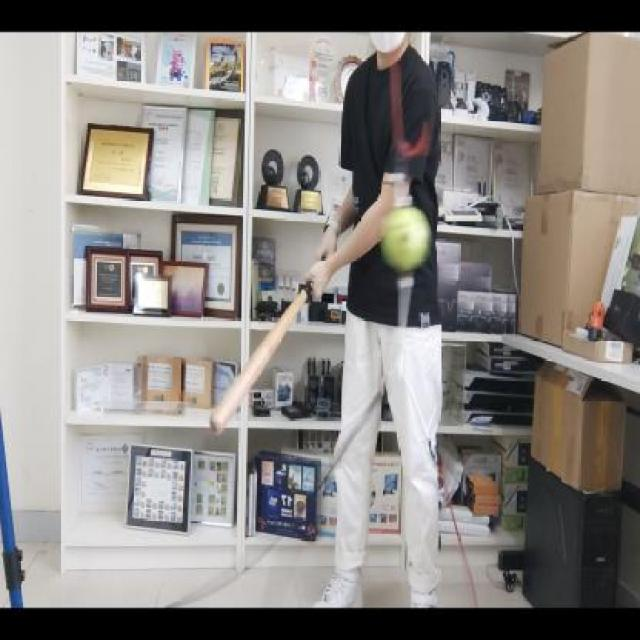baseball: (378, 204, 432, 274)
